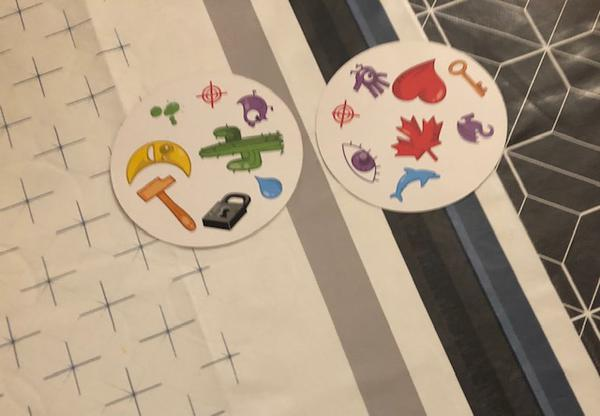cactus: (197, 122, 285, 177)
cadenas: (198, 189, 258, 234)
cible: (195, 76, 228, 109), (331, 96, 364, 127)
cle: (446, 59, 496, 103)
coeur: (387, 61, 449, 105)
dauphin: (386, 162, 444, 202)
dooble: (348, 61, 392, 100)
dragon: (453, 110, 495, 147)
feuille: (393, 110, 447, 166)
goutte: (253, 170, 282, 204)
lune: (124, 137, 195, 190)
marteau: (131, 171, 198, 234)
oeuil: (337, 135, 384, 192)
oiseau: (235, 88, 276, 129)
tache: (146, 95, 186, 129)
